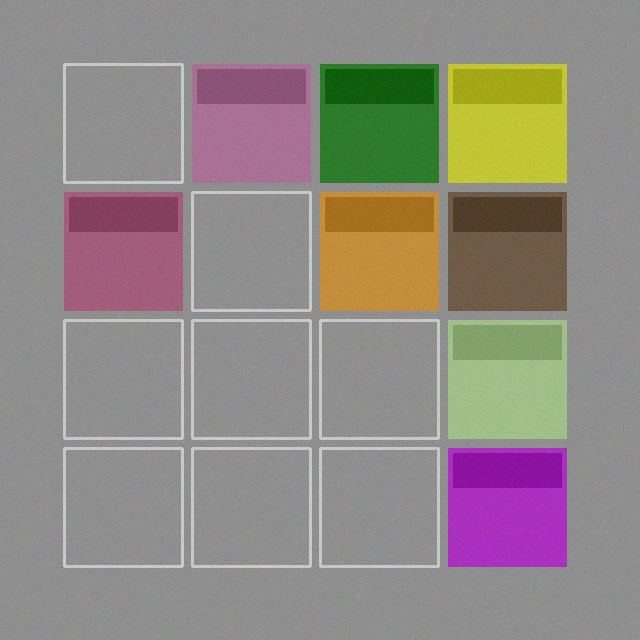space-empty: (64, 64, 182, 182), (192, 192, 310, 310), (64, 320, 182, 438), (192, 320, 310, 438), (320, 320, 438, 438), (64, 448, 182, 566), (192, 448, 310, 566), (320, 448, 438, 566)
space-occupied: (192, 64, 310, 182), (320, 64, 438, 182), (448, 64, 566, 182), (64, 192, 182, 310), (320, 192, 438, 310), (448, 192, 566, 310), (448, 320, 566, 438), (448, 448, 566, 566)
